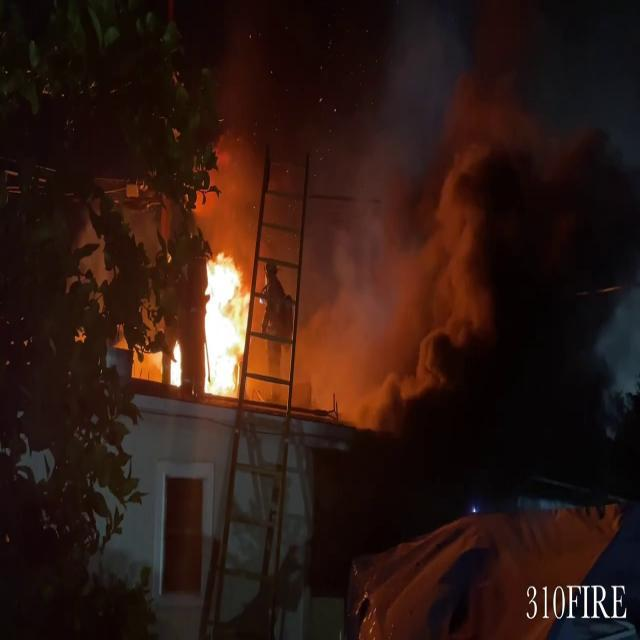Fire: (195, 248, 257, 399)
Smoke: (256, 0, 640, 420)
